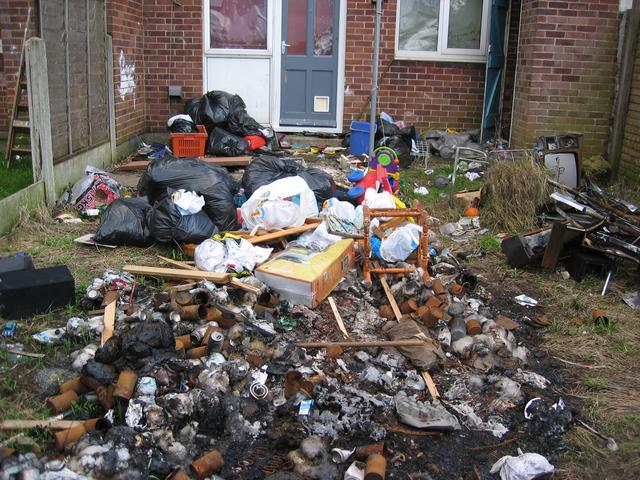garbage: (103, 276, 520, 466), (147, 178, 404, 298)
